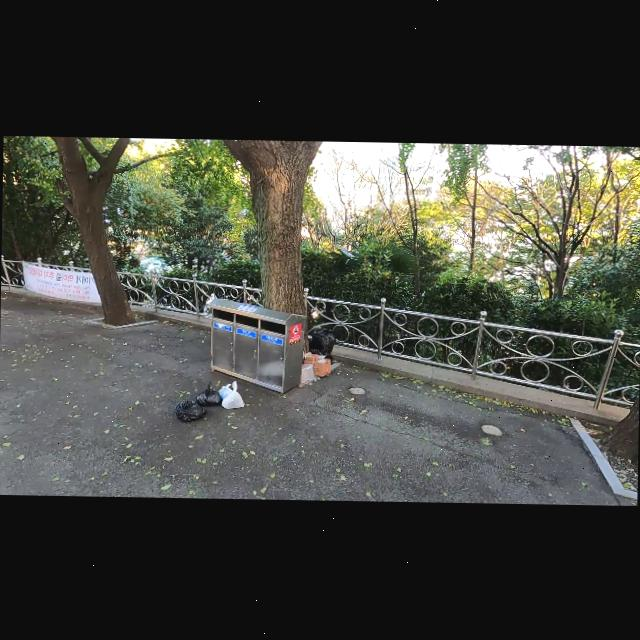trash: (307, 323, 336, 369), (174, 391, 208, 425), (299, 351, 335, 379), (192, 378, 226, 406), (301, 359, 325, 386), (222, 380, 245, 408), (218, 382, 238, 404), (304, 348, 327, 362)
